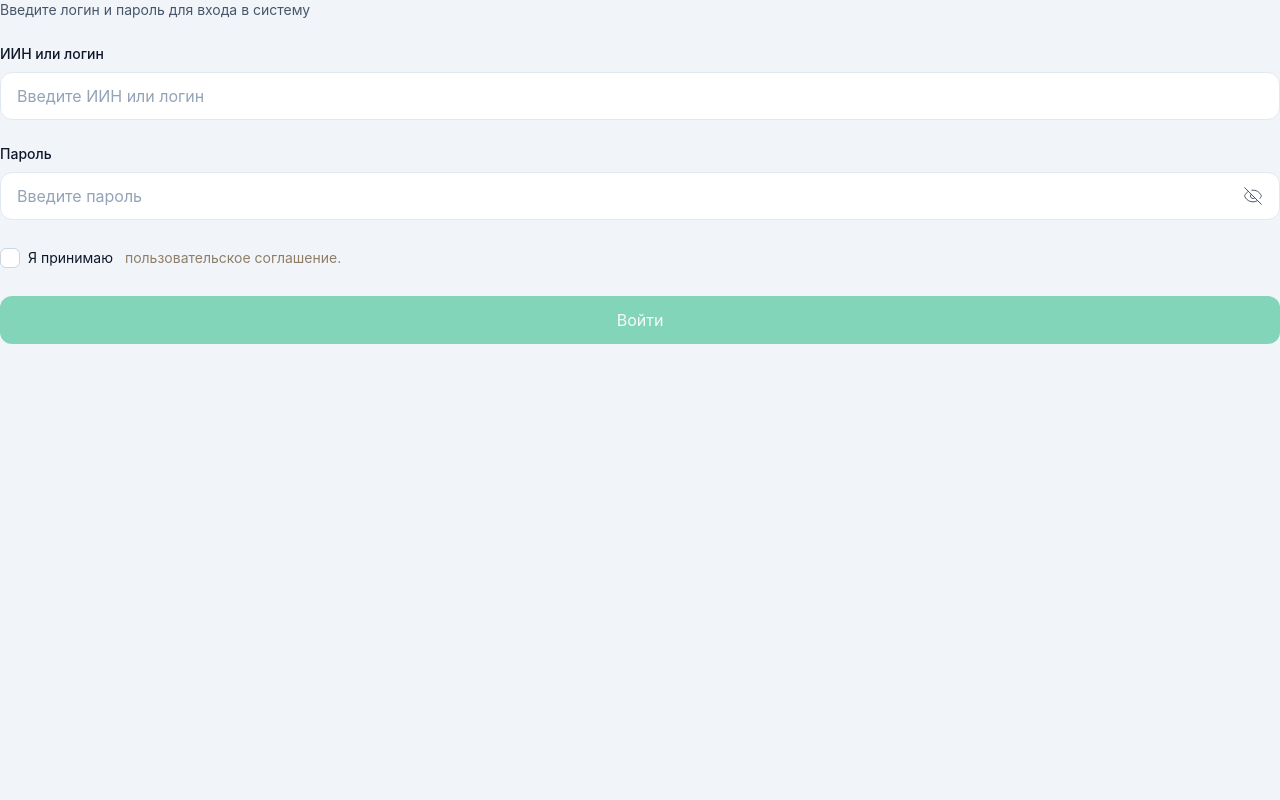
Scenario: StaffSignInForm › FR-AUTH-20: shows the agreement text loaded from the service
Click the button "пользовательское соглашение.".
click(233, 258)  # box [125, 248, 341, 268]
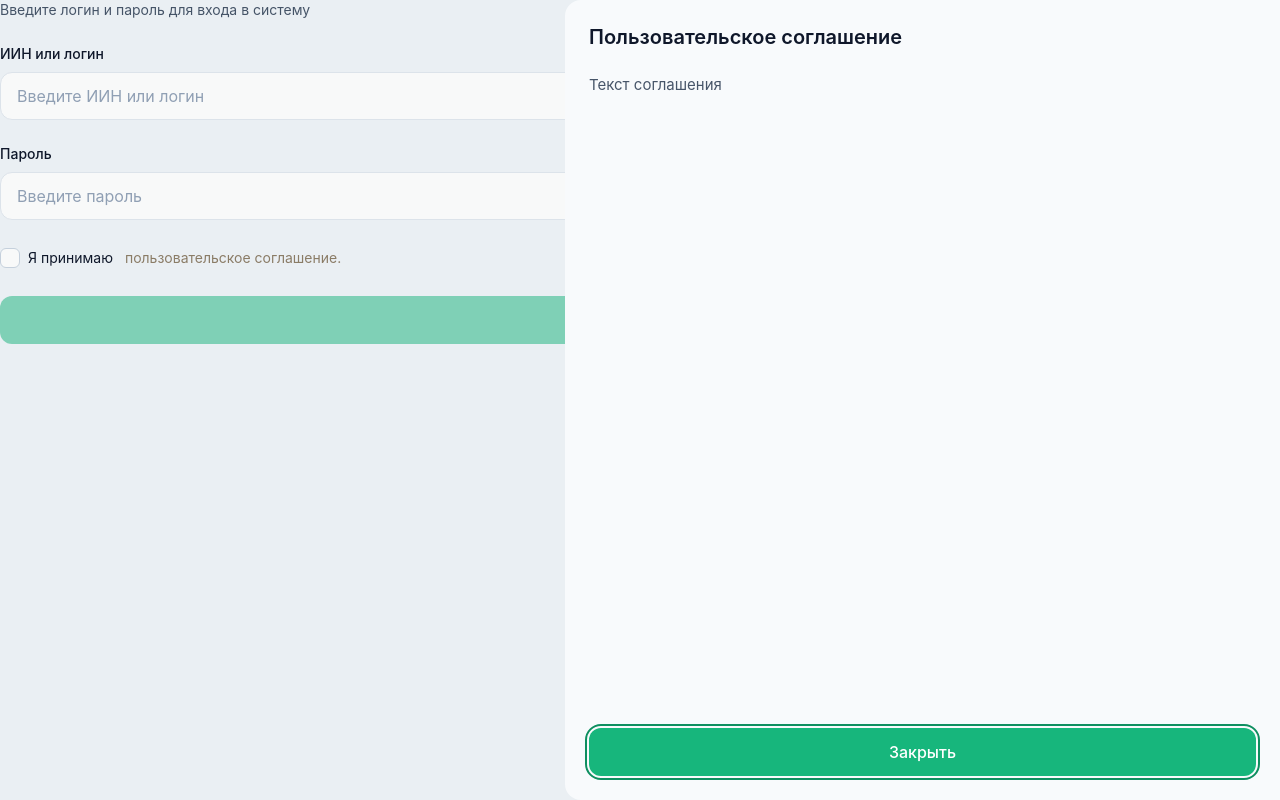
Expected: the heading "Пользовательское соглашение" is shown, [589, 25, 902, 49]
